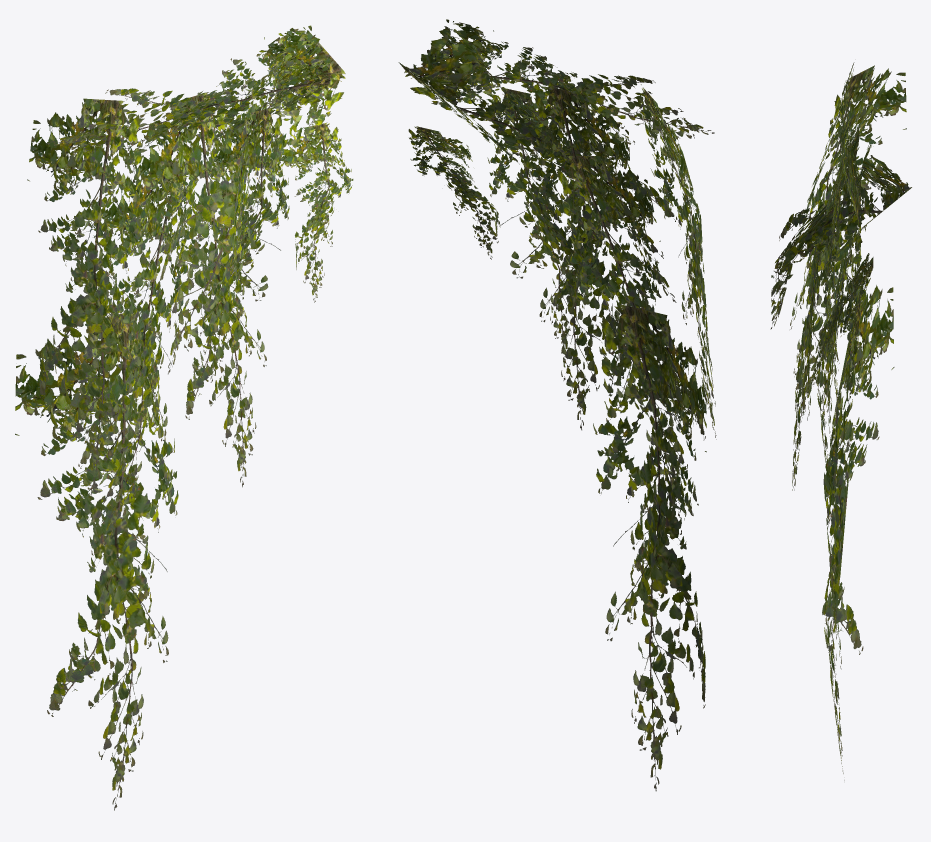
The model's file is ivyB.FBX.
The picture shows the model from 3 angles, left to right: view 1: azimuth 30°, elevation 25°; view 2: azimuth 150°, elevation 25°; view 3: azimuth 270°, elevation 25°; orthographic projection.
Parts seen in each view (by area): view 1: Ivy_cornerB_001; view 2: Ivy_cornerB_001; view 3: Ivy_cornerB_001.
Part boxes in pixels (x1=…): Ivy_cornerB_001: x1=15, y1=25, x2=353, y2=810; Ivy_cornerB_001: x1=398, y1=19, x2=716, y2=791; Ivy_cornerB_001: x1=770, y1=62, x2=911, y2=780.
Bounding box in the file's own units: 2.79 × 5.88 × 1.09.
